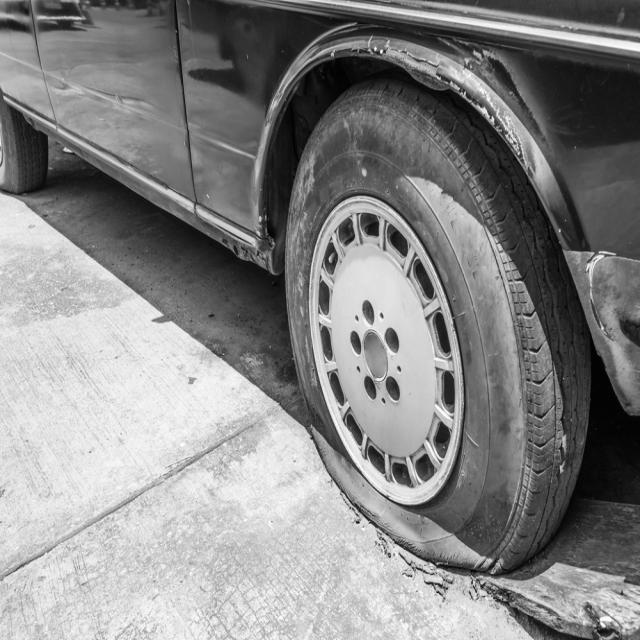tire flat: (285, 70, 591, 572)
